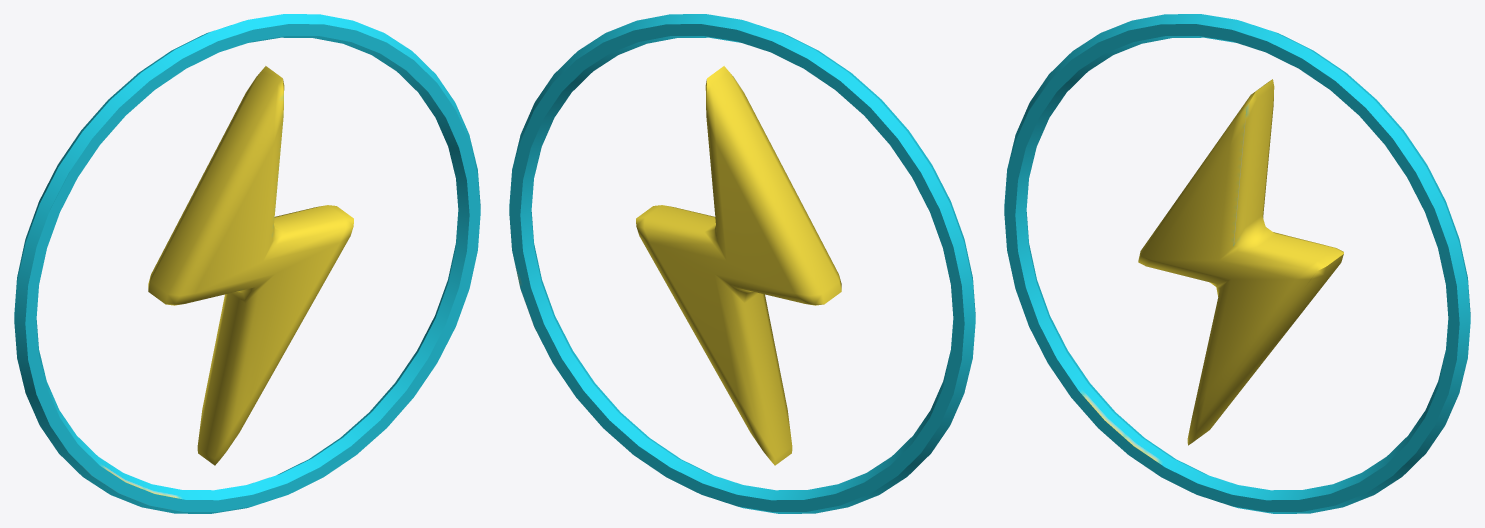
The model's file is rn_powerup_bolt.fbx.
3 views of the same model, side by side, from view 1: azimuth 30°, elevation 25°; view 2: azimuth 150°, elevation 25°; view 3: azimuth 330°, elevation 25° (orthographic).
Visible parts, largest first — view 1: rn_powerup_bolt; view 2: rn_powerup_bolt; view 3: rn_powerup_bolt.
Boxes of the visible parts, x1,y1,x2,y2 form: rn_powerup_bolt: (14, 14, 480, 513); rn_powerup_bolt: (509, 14, 975, 513); rn_powerup_bolt: (1004, 14, 1470, 513).
Size of the model in its own units: 1.26 by 1.26 by 0.16.
Materials: 2 (2 with a texture image).
